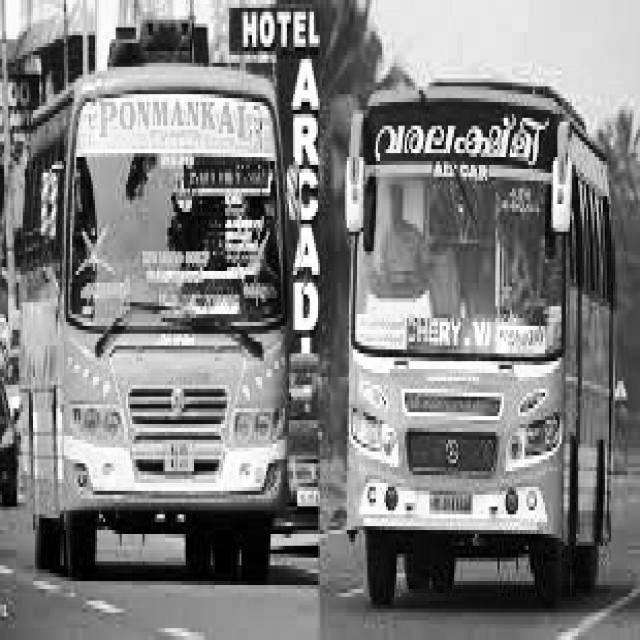Bus: (340, 32, 616, 624), (18, 34, 298, 606)
